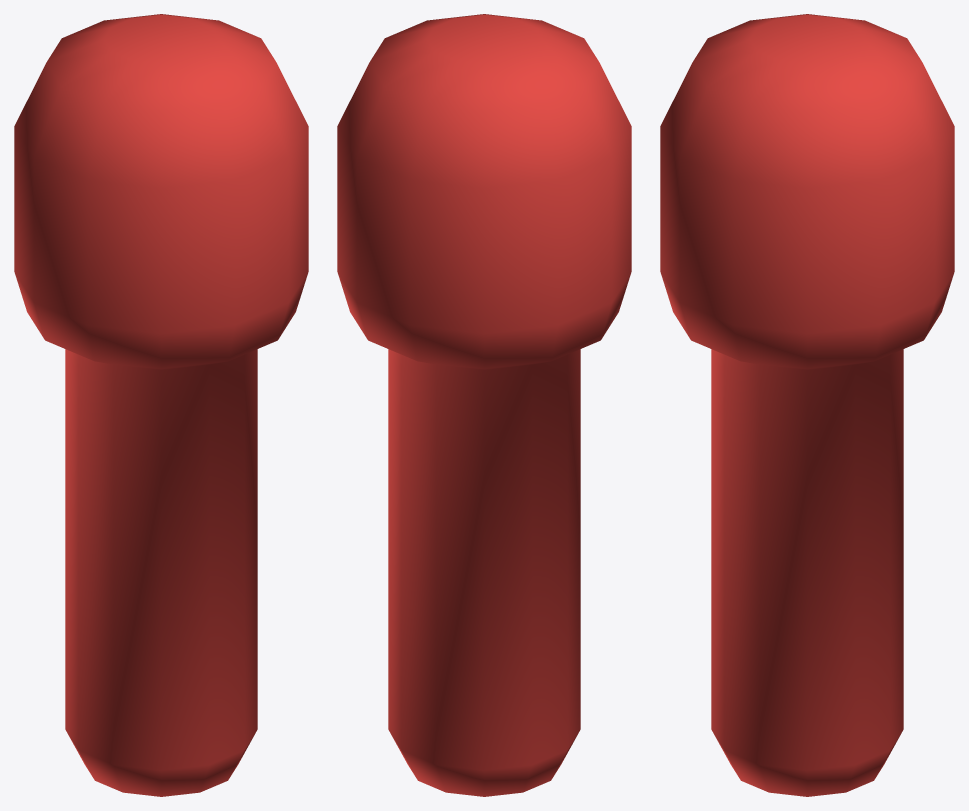
File: peg_red.glb
3 renders of one model, left to right at view 1: azimuth 30°, elevation 25°; view 2: azimuth 150°, elevation 25°; view 3: azimuth 270°, elevation 25°, orthographic.
Visible parts, largest first — view 1: peg_red; view 2: peg_red; view 3: peg_red.
Part boxes in pixels (bbox=[...]): peg_red: bbox=[14, 14, 308, 796]; peg_red: bbox=[337, 14, 631, 796]; peg_red: bbox=[660, 14, 954, 796].
Size of the model in its own units: 0.0046 by 0.0125 by 0.0046.
